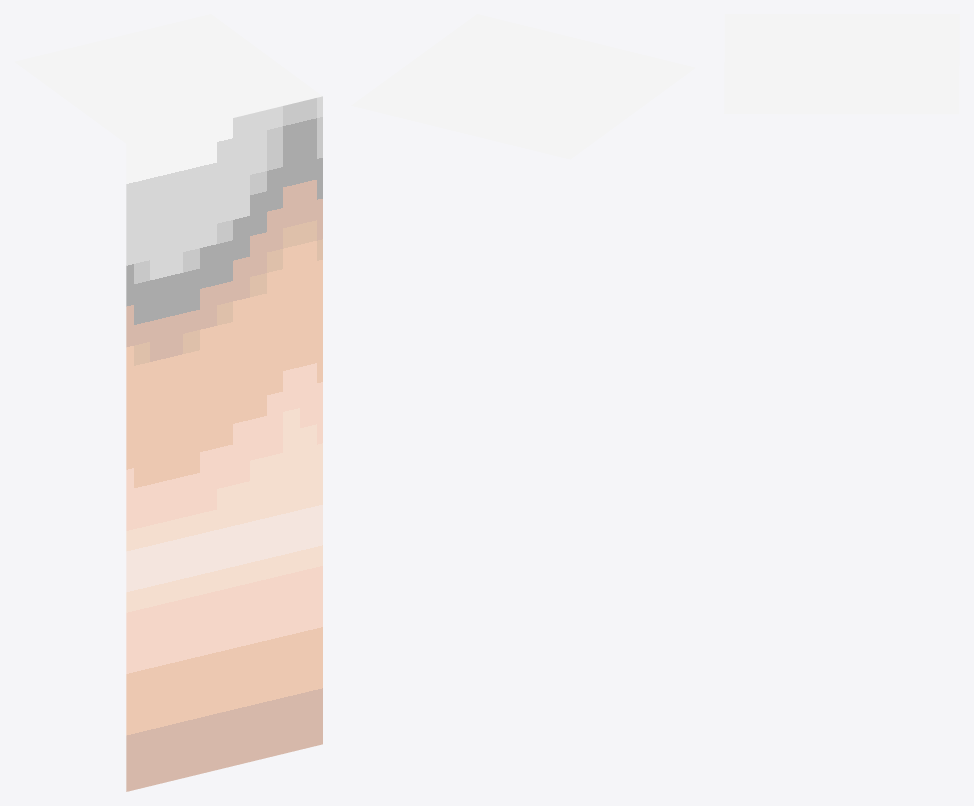
3 views of the same model, side by side, from view 1: azimuth 30°, elevation 25°; view 2: azimuth 150°, elevation 25°; view 3: azimuth 270°, elevation 25° (orthographic). The views are drawn at different scales.
Size of the model in its own units: 0.5054 by 1.59 by 0.5014.
1 material, 1 textured.
